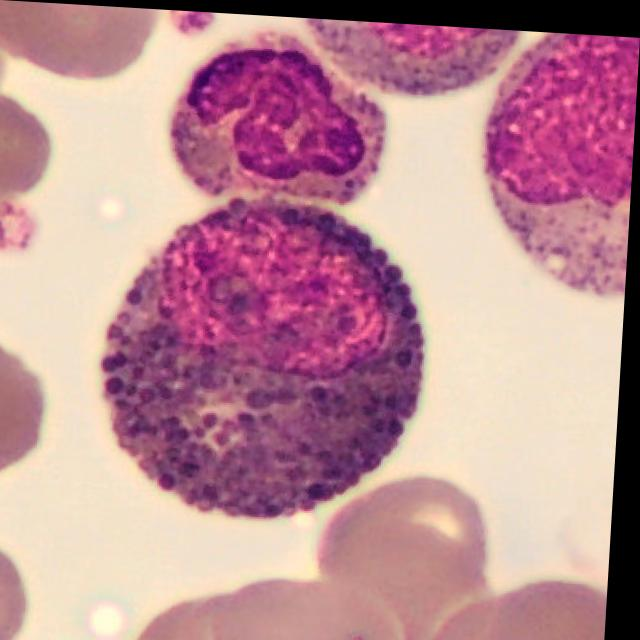Neutrofilo segmentado: (171, 41, 387, 200)
Promielocito: (109, 194, 431, 514)
